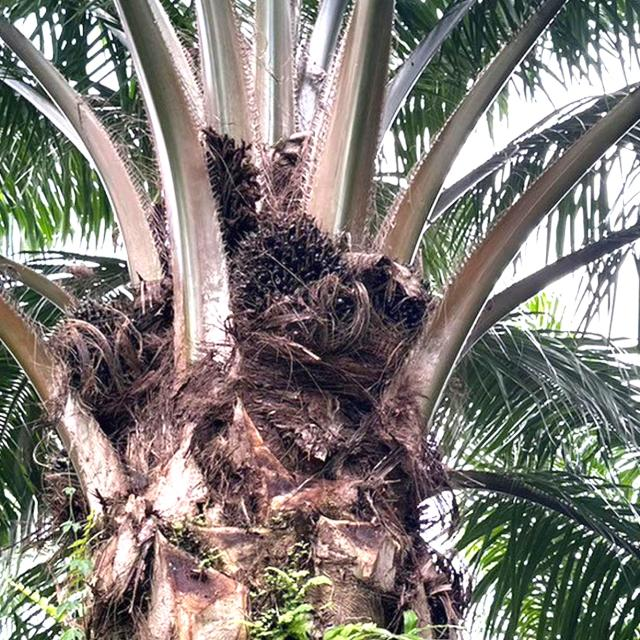unripe: (37, 292, 167, 428), (229, 212, 357, 344), (368, 255, 448, 348)
